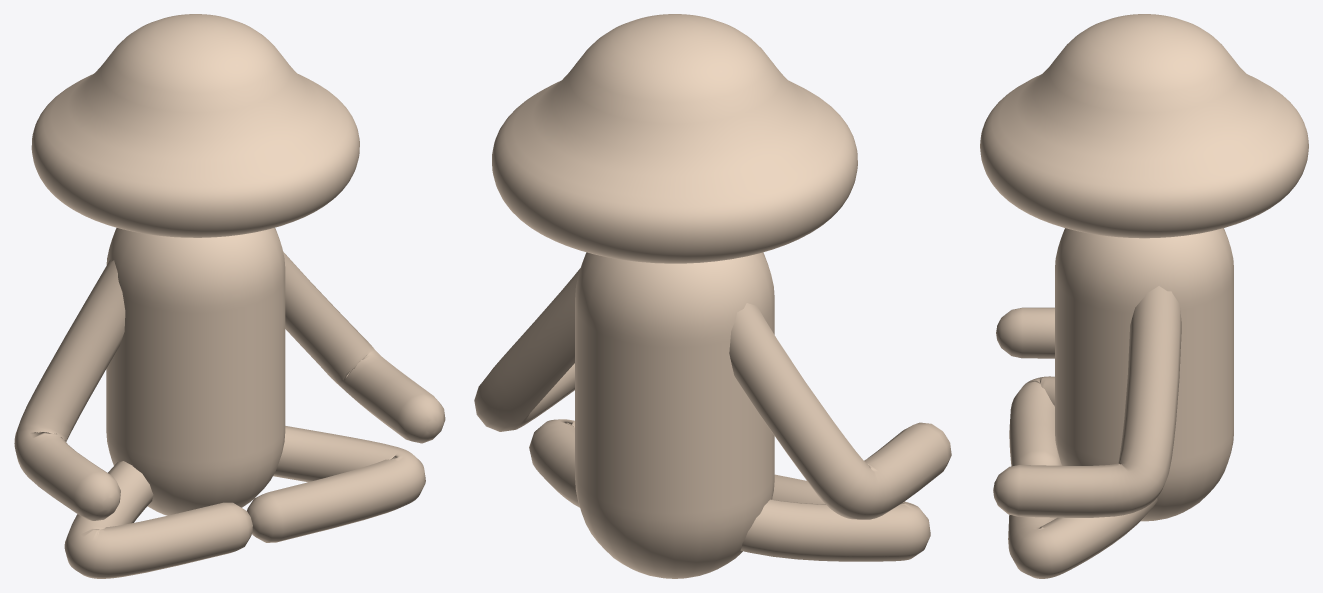
The model's file is shroom_9.glb.
3 renders of one model, left to right at view 1: azimuth 30°, elevation 25°; view 2: azimuth 150°, elevation 25°; view 3: azimuth 270°, elevation 25°, orthographic. The views are drawn at different scales.
Parts seen in each view (by area): view 1: p.0088; view 2: p.0088; view 3: p.0088.
Part boxes in pixels (box(x1,y1,x2,y2)): p.0088: box(14, 14, 445, 578); p.0088: box(474, 14, 951, 578); p.0088: box(980, 14, 1308, 578).
Bounding box in the file's own units: 1.26 × 1.58 × 0.9657.
